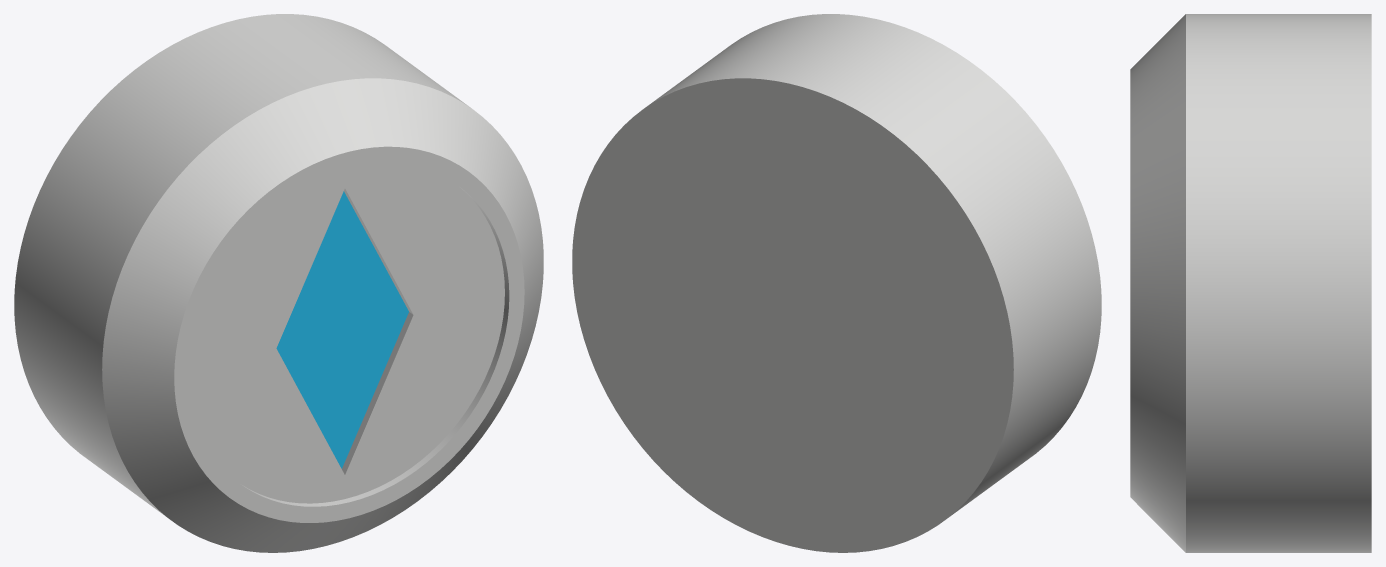
File: pump-head.glb
3 renders of one model, left to right at view 1: azimuth 30°, elevation 25°; view 2: azimuth 150°, elevation 25°; view 3: azimuth 270°, elevation 25°, orthographic. The views are drawn at different scales.
Parts seen in each view (by area): view 1: Pump Head; view 2: Pump Head; view 3: Pump Head.
Boxes of the visible parts, x1,y1,x2,y2 form: Pump Head: (14, 14, 543, 552); Pump Head: (572, 14, 1101, 552); Pump Head: (1130, 14, 1371, 552).
Size of the model in its own units: 28.99 by 29 by 13.
